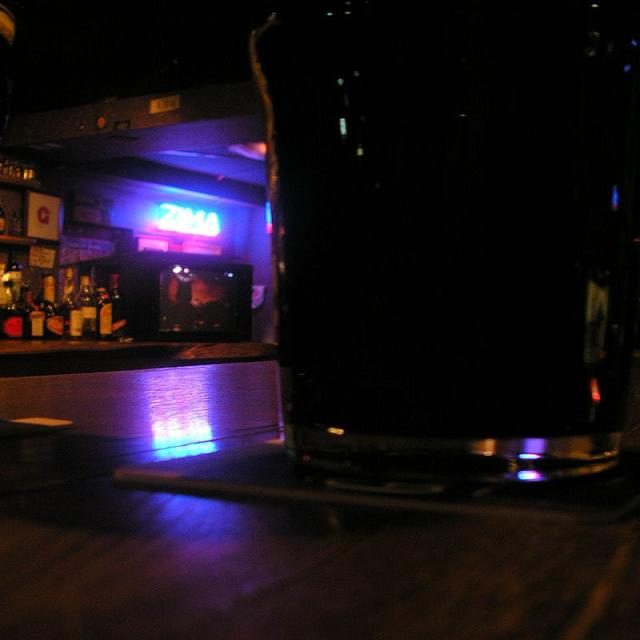Bottle: (58, 259, 117, 345), (90, 254, 153, 334), (29, 247, 82, 334), (0, 239, 25, 326)
Cup: (263, 0, 640, 477)
Table: (5, 340, 640, 640)
